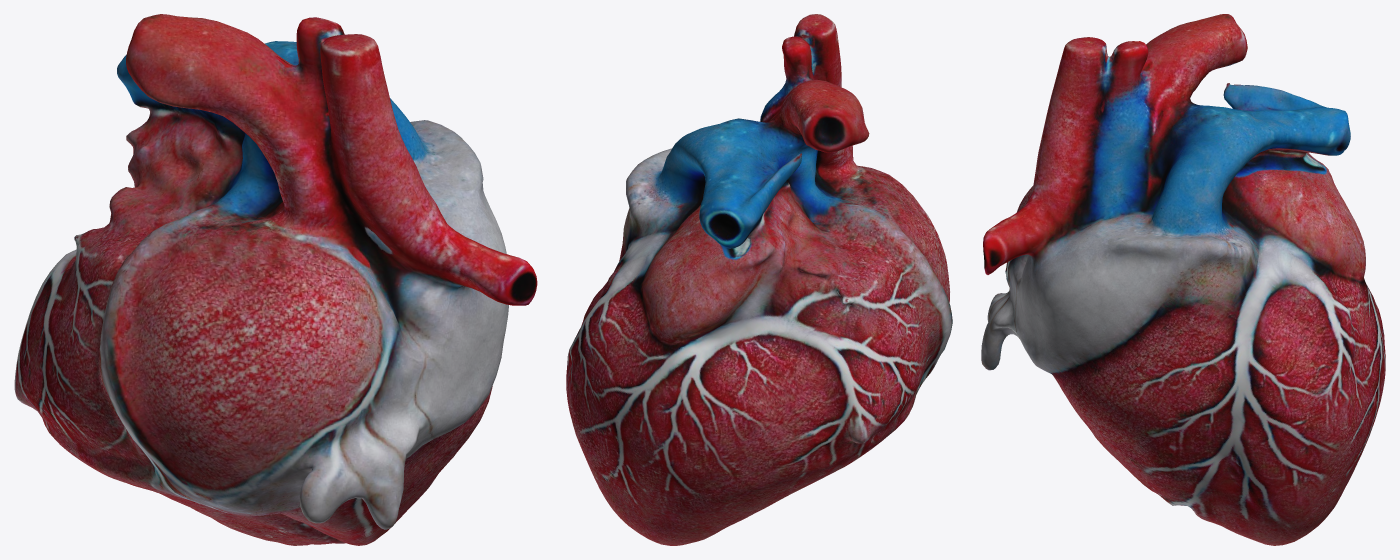
Rendered from asset.glb.
3 views of the same model, side by side, from view 1: azimuth 30°, elevation 25°; view 2: azimuth 150°, elevation 25°; view 3: azimuth 270°, elevation 25° (orthographic). The views are drawn at different scales.
Parts seen in each view (by area): view 1: mesh; view 2: mesh; view 3: mesh.
Boxes of the visible parts, <box> form: mesh: <box>14,14,537,545</box>; mesh: <box>566,14,952,545</box>; mesh: <box>981,14,1385,545</box>.
Bounding box in the file's own units: 67.95 × 99.88 × 77.48.
Materials: 1 (1 with a texture image).
